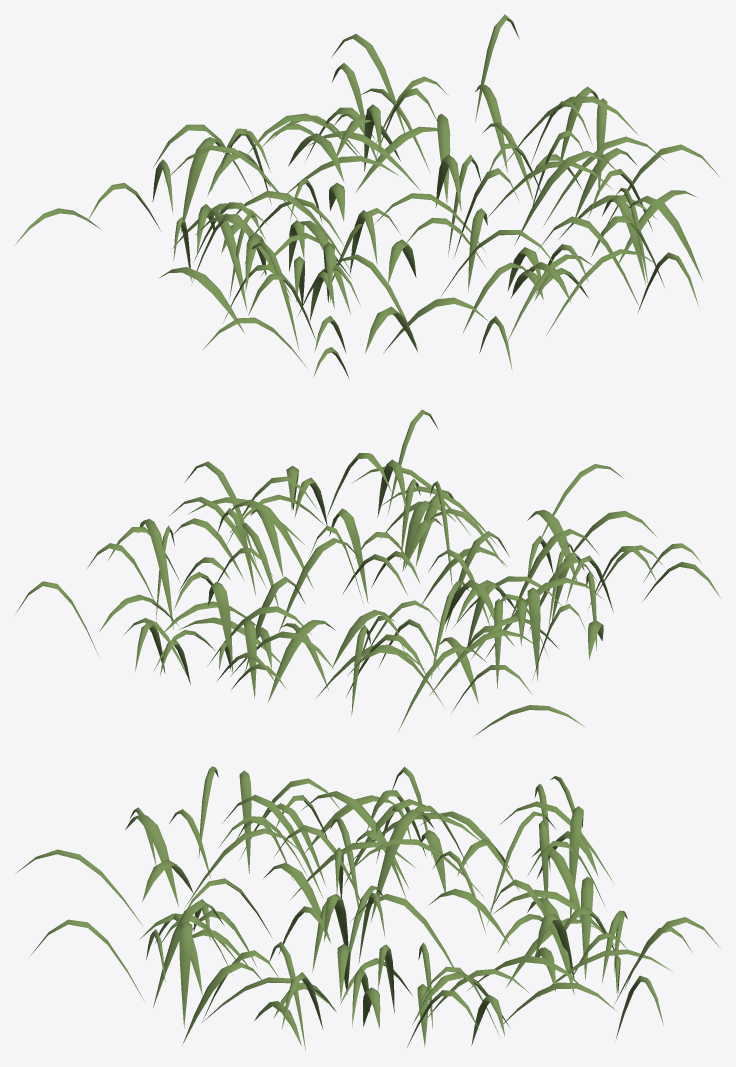
File: groundcover_1.glb
3 renders of one model, top to bottom at view 1: azimuth 30°, elevation 25°; view 2: azimuth 150°, elevation 25°; view 3: azimuth 270°, elevation 25°, orthographic. The views are drawn at different scales.
Parts seen in each view (by area): view 1: Original_planted_groundcover; view 2: Original_planted_groundcover; view 3: Original_planted_groundcover.
Part boxes in pixels (box(x1,y1,x2,y2)): Original_planted_groundcover: box(14, 14, 719, 378); Original_planted_groundcover: box(16, 409, 720, 735); Original_planted_groundcover: box(15, 766, 720, 1051).
Bounding box in the file's own units: 1.63 × 0.2477 × 1.76.
